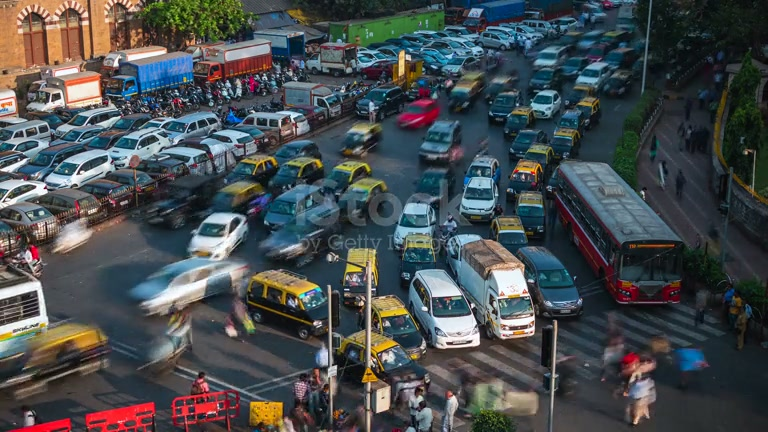bus: (547, 160, 686, 306), (445, 234, 538, 340), (102, 47, 195, 112), (0, 264, 50, 377), (192, 40, 274, 86), (460, 154, 501, 223)
car: (127, 256, 251, 318), (334, 328, 429, 401), (244, 267, 331, 340), (409, 268, 481, 349), (515, 245, 584, 320), (263, 183, 342, 236), (369, 294, 428, 359), (78, 168, 159, 212), (41, 148, 114, 191), (186, 211, 250, 260), (28, 187, 104, 226), (398, 233, 445, 289), (392, 198, 439, 252), (0, 202, 61, 243), (338, 176, 388, 226), (418, 119, 464, 167), (489, 215, 529, 255), (530, 90, 565, 120)
pedestrian: (624, 358, 657, 427), (190, 371, 210, 395)
truck: (0, 265, 49, 375)
